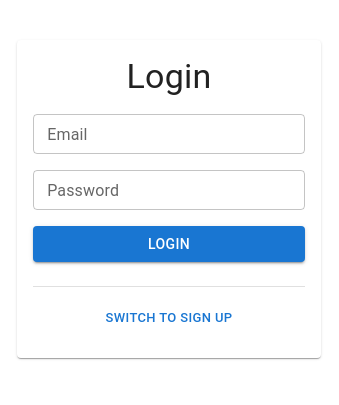
it: <AuthPage /> › toggles between login and signup forms
Expected: the heading "Login" is shown, x1=126 y1=56 x2=212 y2=96
Step 1. Click the button "Switch to Sign Up" → coordinates (169, 319), box x1=100 y1=303 x2=238 y2=334
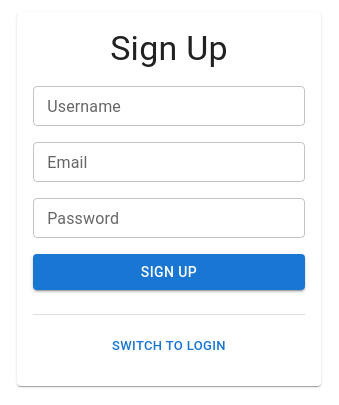
Now the heading "Sign Up" is shown, box x1=110 y1=28 x2=228 y2=68
